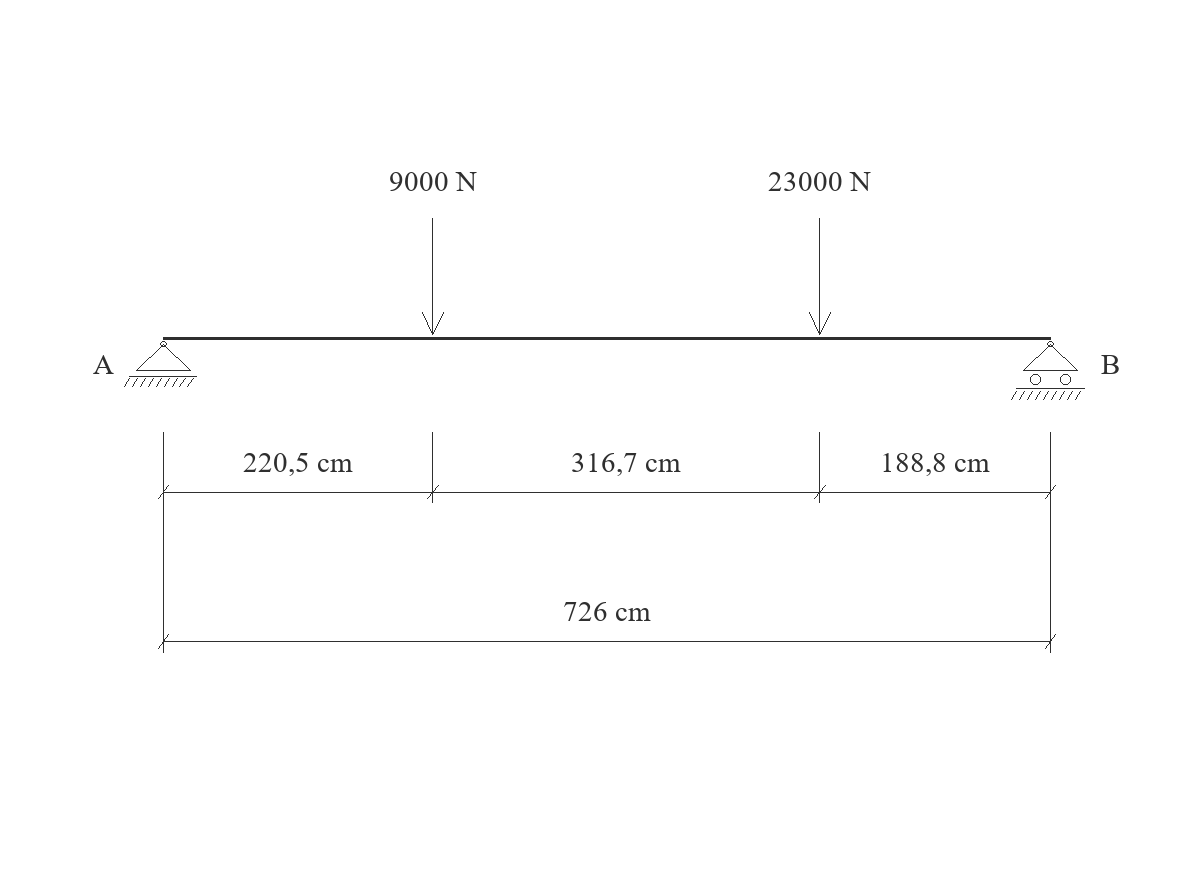pin_support: (124, 341, 197, 387)
point_load: (422, 218, 444, 335), (809, 218, 831, 335)
roller_support: (1011, 341, 1085, 400)
